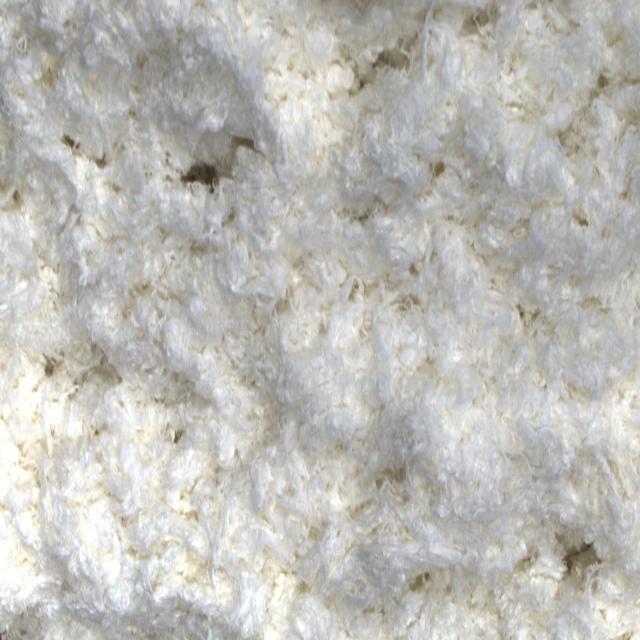dust: (179, 159, 219, 198)
